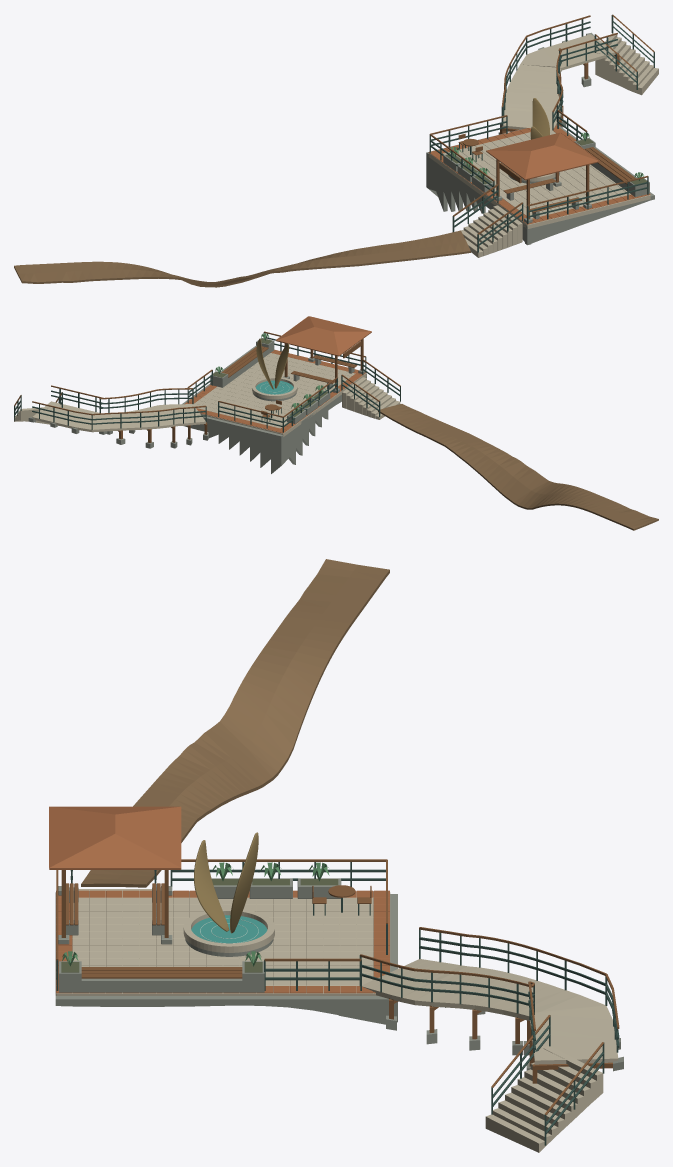
File: town-square-optimized.glb
3 views of the same model, one above another, from view 1: azimuth 30°, elevation 25°; view 2: azimuth 150°, elevation 25°; view 3: azimuth 270°, elevation 25° (orthographic). The views are drawn at different scales.
Visible parts, largest first — view 1: C1 / warm limestone / walking surface, C1 / compacted highland earth / walking surface, C1 / warm volcanic stone / static, C1 / deep green metal / static, C1 / oiled timber / static, C1 / terracotta / static, C1 / terracotta / walking surface, C1 / weathered bronze / static; view 2: C1 / warm limestone / walking surface, C1 / compacted highland earth / walking surface, C1 / warm volcanic stone / static, C1 / deep green metal / static, C1 / oiled timber / static, C1 / terracotta / static, C1 / terracotta / walking surface, C1 / weathered bronze / static, C1 / warm limestone / static, C1 / jade water / static; view 3: C1 / warm limestone / walking surface, C1 / compacted highland earth / walking surface, C1 / warm volcanic stone / static, C1 / oiled timber / static, C1 / terracotta / static, C1 / deep green metal / static, C1 / terracotta / walking surface, C1 / weathered bronze / static, C1 / warm limestone / static, C1 / jade water / static, C1 / planting soil / static, C1 / tropical leaf / static.
Boxes of the visible parts, bbox=[...] form: C1 / warm limestone / walking surface: bbox=[428, 33, 658, 257]; C1 / compacted highland earth / walking surface: bbox=[14, 230, 470, 287]; C1 / warm volcanic stone / static: bbox=[426, 32, 654, 245]; C1 / deep green metal / static: bbox=[429, 14, 654, 252]; C1 / oiled timber / static: bbox=[429, 15, 654, 234]; C1 / terracotta / static: bbox=[486, 132, 600, 180]; C1 / terracotta / walking surface: bbox=[428, 125, 650, 224]; C1 / weathered bronze / static: bbox=[530, 98, 549, 139]; C1 / warm limestone / walking surface: bbox=[14, 353, 400, 436]; C1 / compacted highland earth / walking surface: bbox=[378, 404, 658, 530]; C1 / warm volcanic stone / static: bbox=[28, 338, 366, 473]; C1 / deep green metal / static: bbox=[14, 332, 400, 432]; C1 / oiled timber / static: bbox=[14, 331, 400, 442]; C1 / terracotta / static: bbox=[275, 316, 371, 356]; C1 / terracotta / walking surface: bbox=[184, 349, 366, 433]; C1 / weathered bronze / static: bbox=[256, 338, 289, 389]; C1 / warm limestone / static: bbox=[252, 377, 297, 399]; C1 / jade water / static: bbox=[255, 380, 293, 394]; C1 / warm limestone / walking surface: bbox=[55, 889, 618, 1152]; C1 / compacted highland earth / walking surface: bbox=[81, 559, 389, 887]; C1 / warm volcanic stone / static: bbox=[55, 878, 623, 1071]; C1 / oiled timber / static: bbox=[56, 859, 619, 1114]; C1 / terracotta / static: bbox=[49, 806, 181, 869]; C1 / deep green metal / static: bbox=[56, 862, 619, 1145]; C1 / terracotta / walking surface: bbox=[56, 890, 389, 993]; C1 / weathered bronze / static: bbox=[194, 832, 258, 933]; C1 / warm limestone / static: bbox=[183, 908, 274, 952]; C1 / jade water / static: bbox=[191, 915, 267, 943]; C1 / planting soil / static: bbox=[61, 879, 338, 972]; C1 / tropical leaf / static: bbox=[62, 862, 329, 966].
Bounding box in the file's own units: 42.5 × 6.85 × 17.88.
